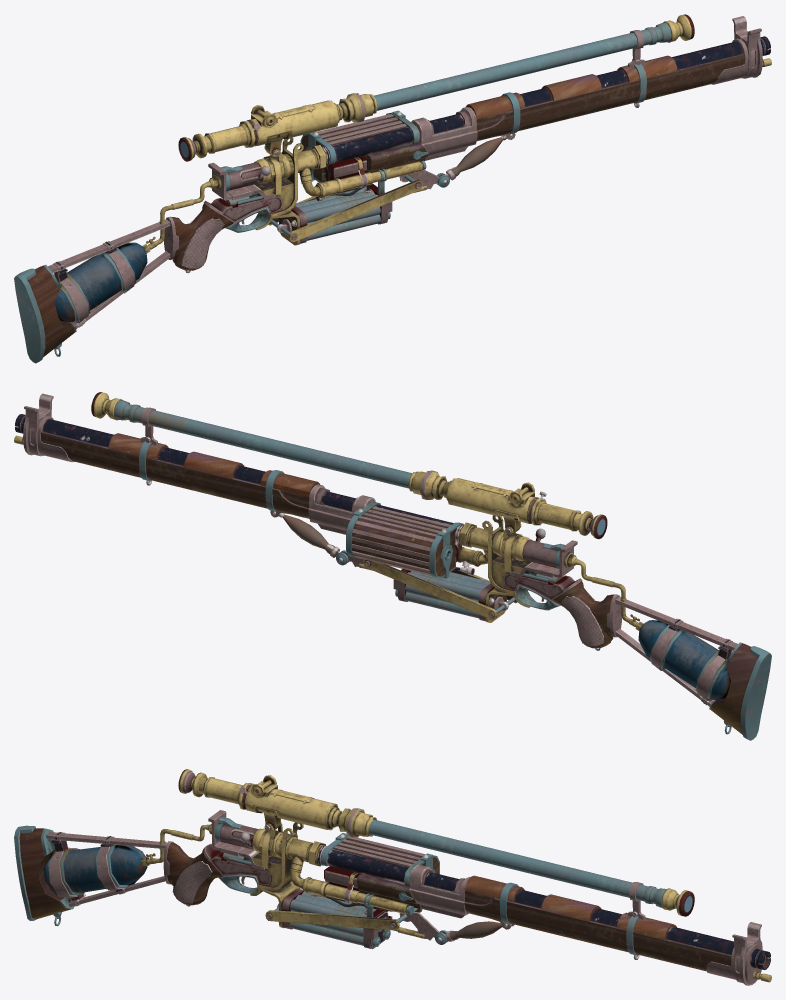
The model's file is gun.glb.
The picture shows the model from 3 angles, top to bottom: view 1: azimuth 30°, elevation 25°; view 2: azimuth 150°, elevation 25°; view 3: azimuth 330°, elevation 25°; orthographic projection.
Parts seen in each view (by area): view 1: AirGun03objcleanermaterialmergergles; view 2: AirGun03objcleanermaterialmergergles; view 3: AirGun03objcleanermaterialmergergles.
Boxes of the visible parts, bbox=[...] form: AirGun03objcleanermaterialmergergles: bbox=[14, 14, 771, 363]; AirGun03objcleanermaterialmergergles: bbox=[14, 392, 771, 740]; AirGun03objcleanermaterialmergergles: bbox=[14, 769, 771, 985].
Bounding box in the file's own units: 142 × 35.47 × 12.67.
2 materials, 2 textured.
